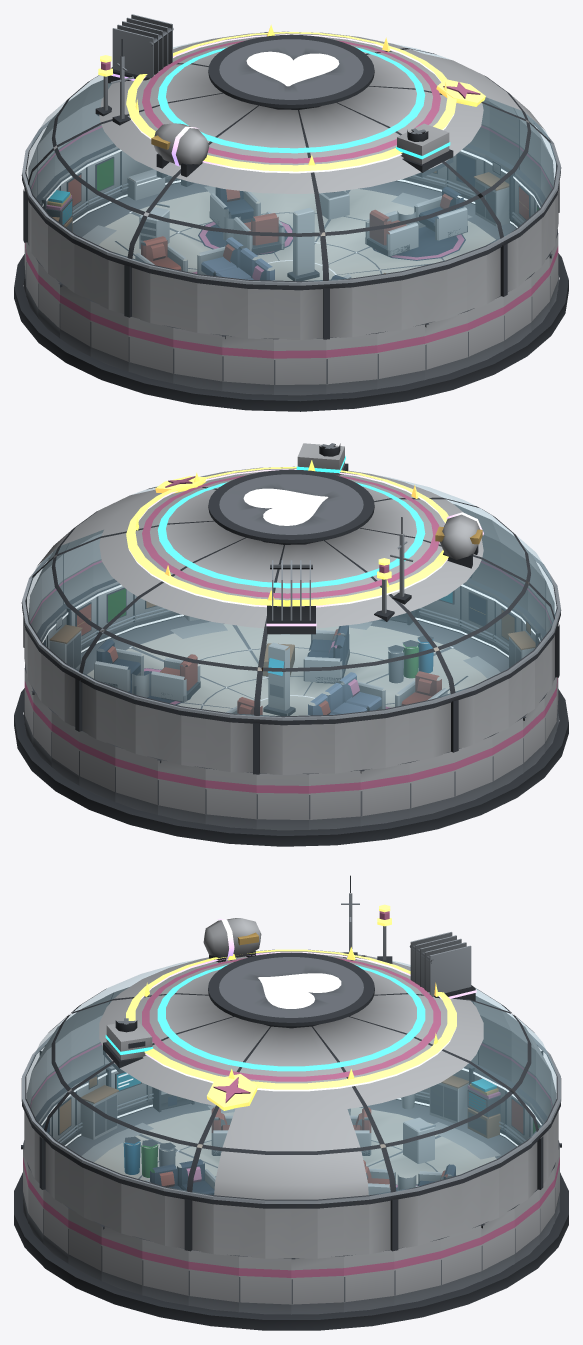
Rendered from lounge_s_far.glb.
3 renders of one model, top to bottom at view 1: azimuth 30°, elevation 25°; view 2: azimuth 150°, elevation 25°; view 3: azimuth 270°, elevation 25°, orthographic.
Visible parts, largest first — view 1: Roof, Base, Interior, L4, L5, L3, L2; view 2: Roof, Base, Interior, L5, L4, L3, L2; view 3: Roof, Base, Interior, L4, L5, L3, L2.
Boxes of the visible parts, left/top/right/bottom form: Roof: left=22, top=31, right=560, bottom=339; Base: left=14, top=143, right=568, bottom=411; Interior: left=82, top=186, right=471, bottom=281; L4: left=108, top=14, right=454, bottom=186; L5: left=95, top=24, right=485, bottom=171; L3: left=157, top=47, right=453, bottom=177; L2: left=21, top=39, right=561, bottom=285; Roof: left=22, top=466, right=560, bottom=774; Base: left=14, top=578, right=568, bottom=846; Interior: left=94, top=622, right=500, bottom=716; L5: left=126, top=460, right=448, bottom=621; L4: left=128, top=469, right=483, bottom=634; L3: left=157, top=443, right=425, bottom=588; L2: left=21, top=517, right=561, bottom=720; Roof: left=22, top=949, right=560, bottom=1258; Base: left=14, top=1063, right=568, bottom=1330; Interior: left=81, top=1105, right=500, bottom=1194; L4: left=141, top=918, right=476, bottom=1091; L5: left=126, top=904, right=456, bottom=1110; L3: left=103, top=964, right=425, bottom=1073; L2: left=21, top=875, right=561, bottom=1203.
Bounding box in the file's own units: 11.74 × 6.29 × 11.74.
